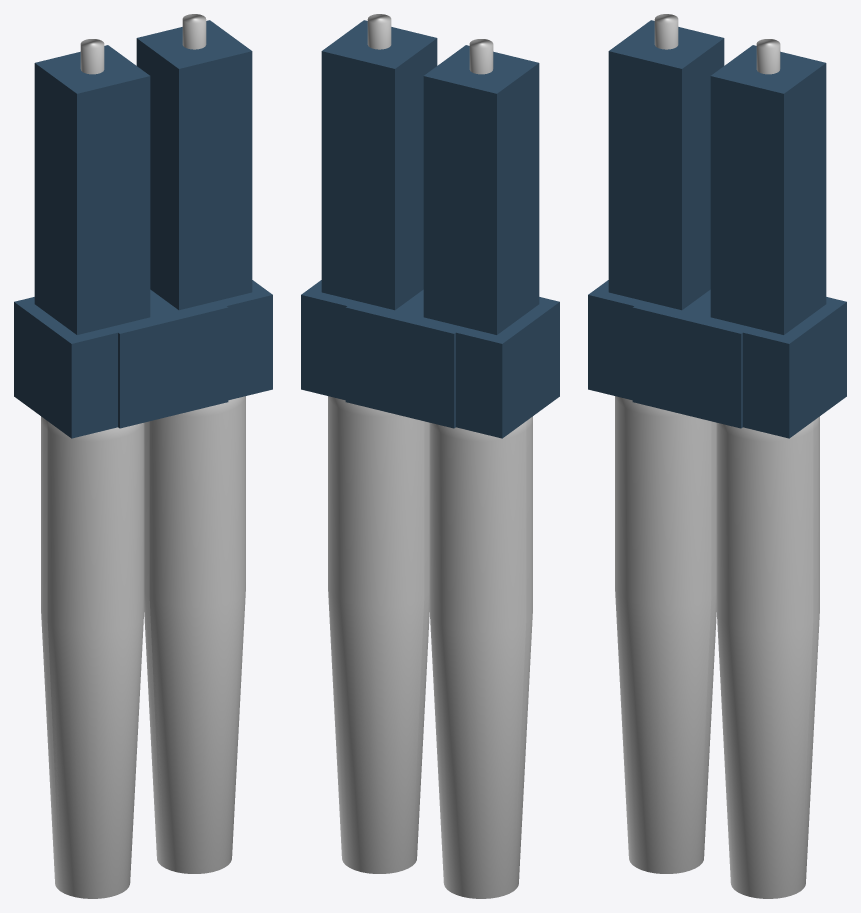
File: sfp_plug_visual.glb
The picture shows the model from 3 angles, left to right: view 1: azimuth 30°, elevation 25°; view 2: azimuth 150°, elevation 25°; view 3: azimuth 330°, elevation 25°; orthographic projection.
Parts seen in each view (by area): view 1: Cube.002; view 2: Cube.002; view 3: Cube.002.
Part boxes in pixels (x1,y1,x2,y2): Cube.002: (14, 14, 272, 898); Cube.002: (301, 14, 559, 898); Cube.002: (588, 14, 846, 898).
Bounding box in the file's own units: 0.0124 × 0.0492 × 0.0065.
